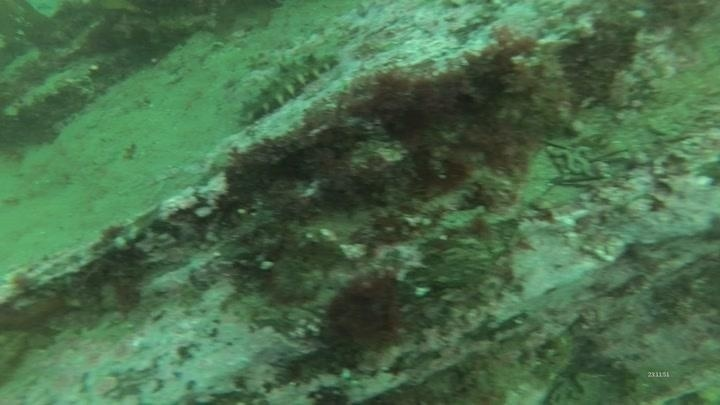holothurian: (233, 43, 341, 127)
